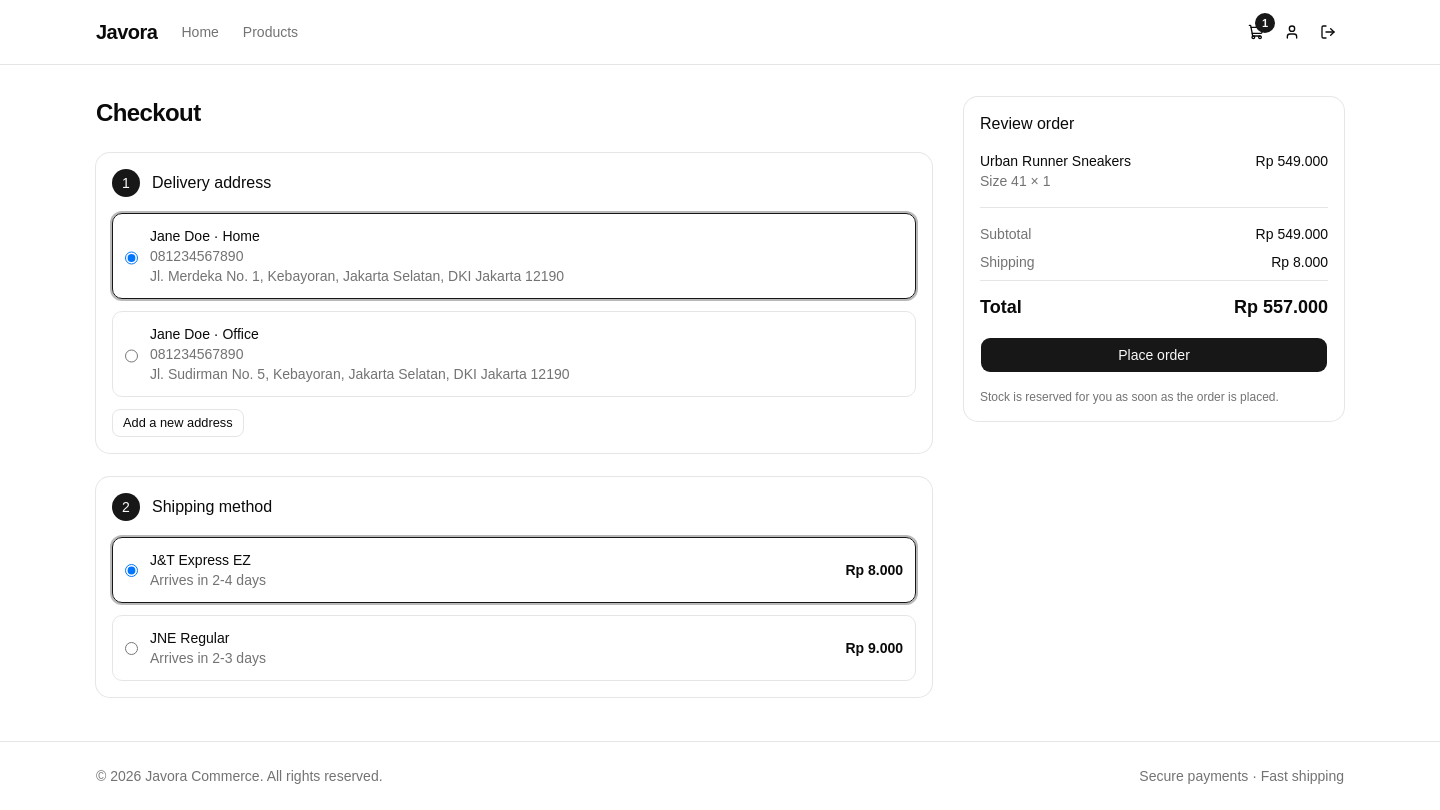
checkout › keeps the shopper on the page and refreshes the cart when stock ran out
Click the button "Place order" at (1154, 355), box x1=980 y1=337 x2=1328 y2=373
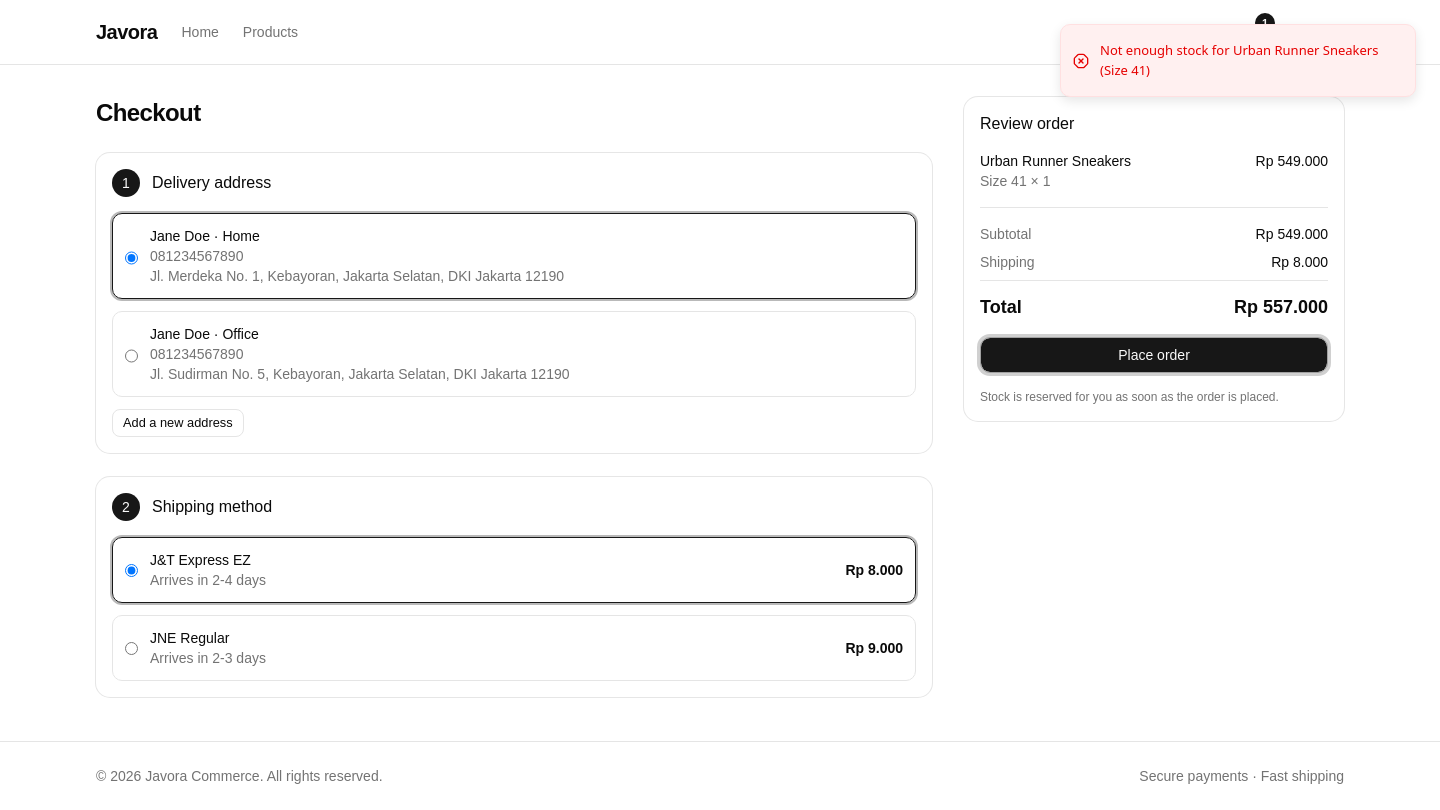
Now the text "Not enough stock for Urban Runner Sneakers (Size 41)" is shown, box x1=1100 y1=41 x2=1399 y2=80
